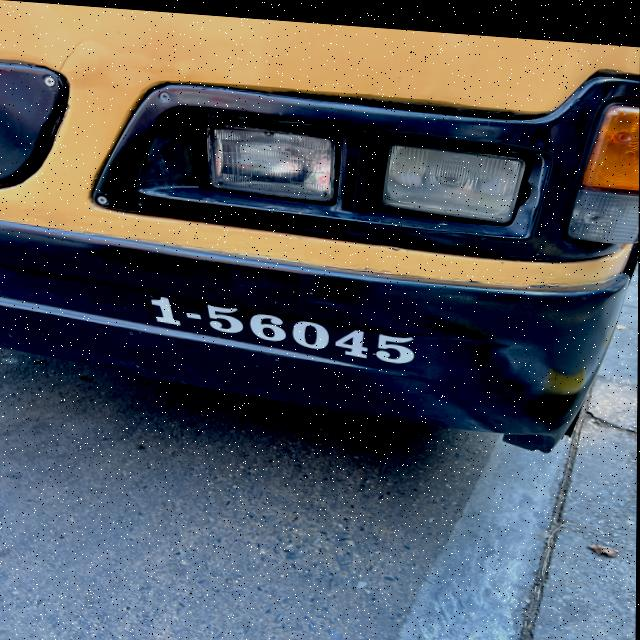BMTA-bus: (0, 0, 640, 450)
